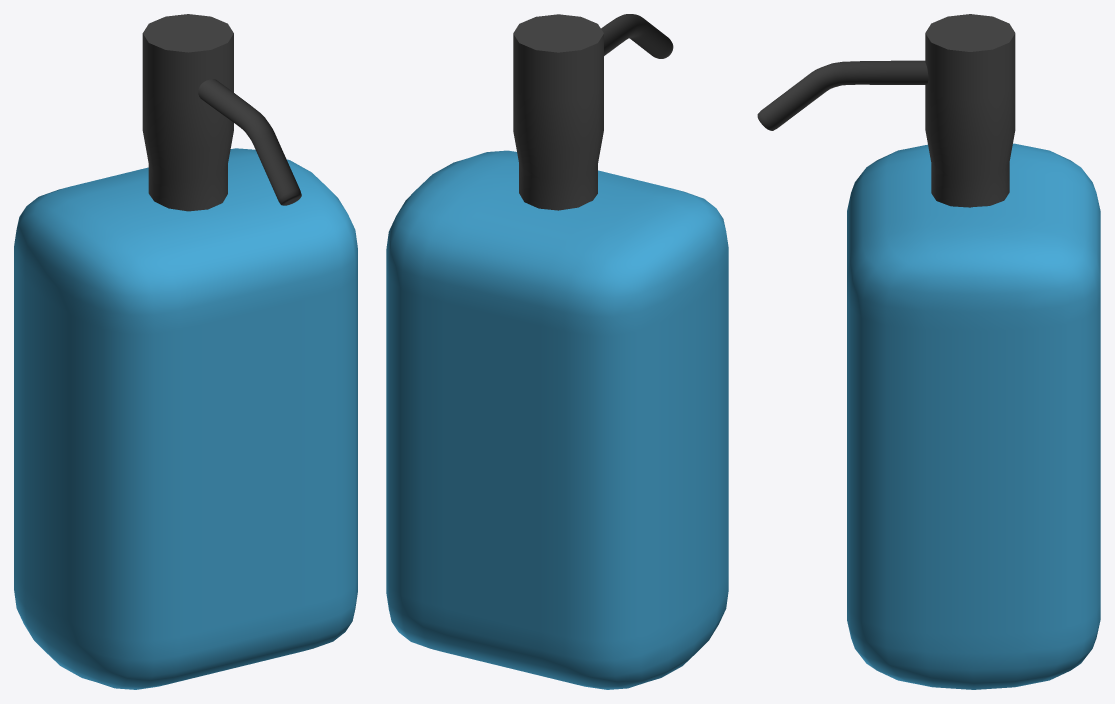
File: Jabon.fbx
3 renders of one model, left to right at view 1: azimuth 30°, elevation 25°; view 2: azimuth 150°, elevation 25°; view 3: azimuth 270°, elevation 25°, orthographic.
Parts seen in each view (by area): view 1: Jabon; view 2: Jabon; view 3: Jabon.
Part boxes in pixels (x1,y1,x2,y2): Jabon: (14, 14, 357, 689); Jabon: (386, 14, 728, 689); Jabon: (757, 14, 1100, 689).
Bounding box in the file's own units: 2.77 × 5.81 × 2.97.
